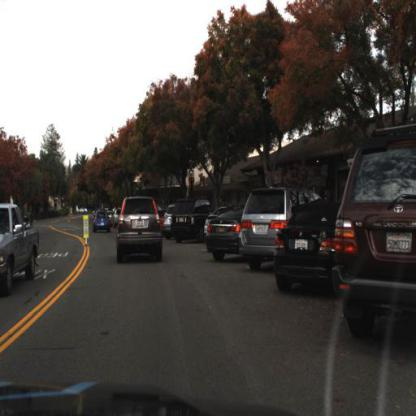car: (336, 124, 416, 343), (270, 194, 340, 299), (238, 186, 291, 276), (1, 202, 41, 300), (114, 194, 167, 266), (204, 199, 242, 263), (169, 200, 214, 245), (92, 209, 115, 236), (164, 205, 174, 241)
